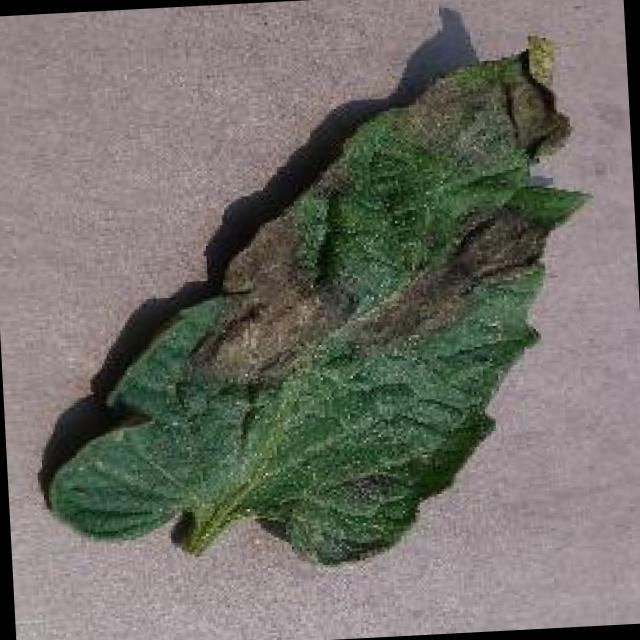Tomato_Late_Blight: (194, 19, 606, 406)
